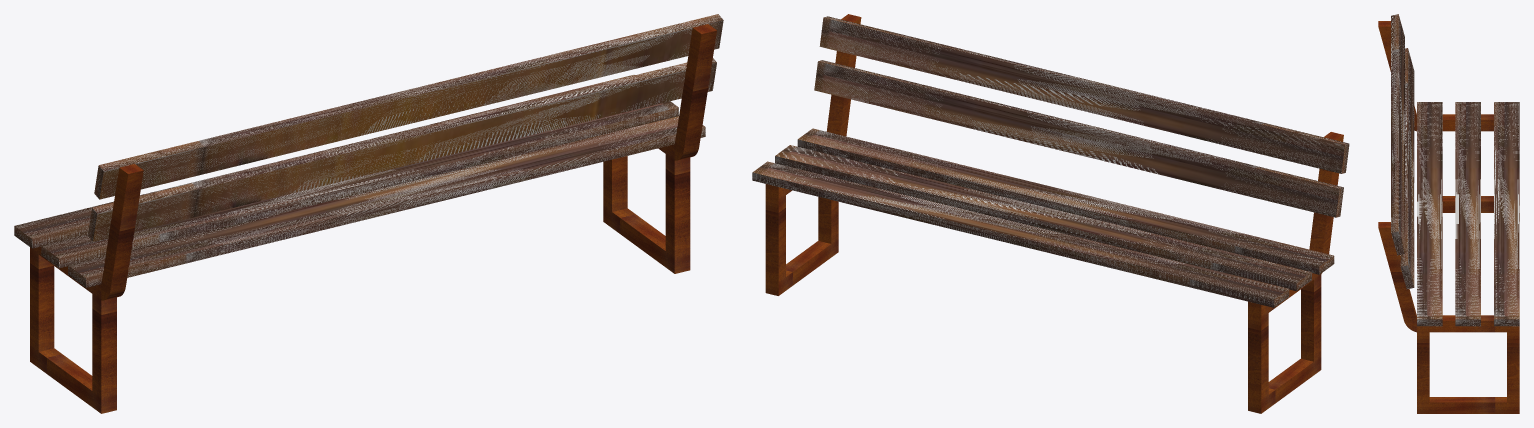
The picture shows the model from 3 angles, left to right: view 1: azimuth 30°, elevation 25°; view 2: azimuth 150°, elevation 25°; view 3: azimuth 270°, elevation 25°; orthographic projection. The views are drawn at different scales.
Visible parts, largest first — view 1: mesh4_mesh4-geometry, mesh1_mesh1-geometry; view 2: mesh4_mesh4-geometry, mesh1_mesh1-geometry; view 3: mesh4_mesh4-geometry, mesh1_mesh1-geometry.
Boxes of the visible parts, box(x1,y1,x2,y2) form: mesh4_mesh4-geometry: box(14, 14, 723, 287); mesh1_mesh1-geometry: box(30, 24, 716, 413); mesh4_mesh4-geometry: box(752, 16, 1349, 307); mesh1_mesh1-geometry: box(765, 14, 1343, 413); mesh4_mesh4-geometry: box(1391, 14, 1519, 326); mesh1_mesh1-geometry: box(1378, 21, 1519, 413).
Size of the model in its own units: 0.8986 by 0.3627 by 0.2471.
